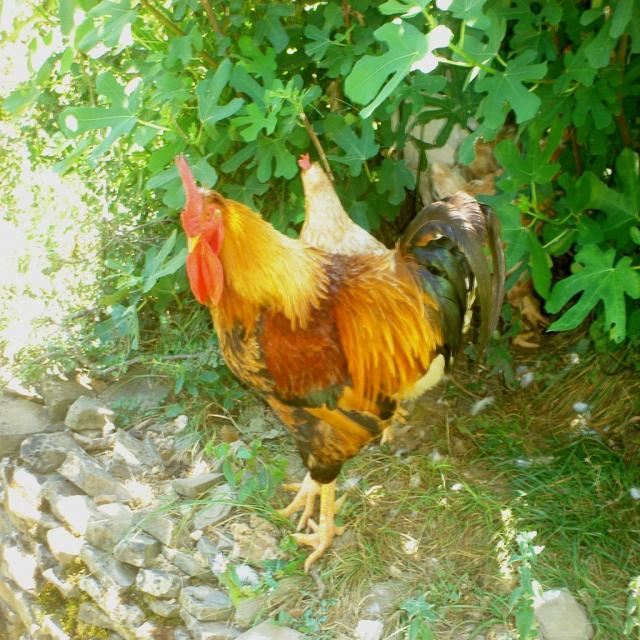Chicken: (182, 134, 458, 575)
